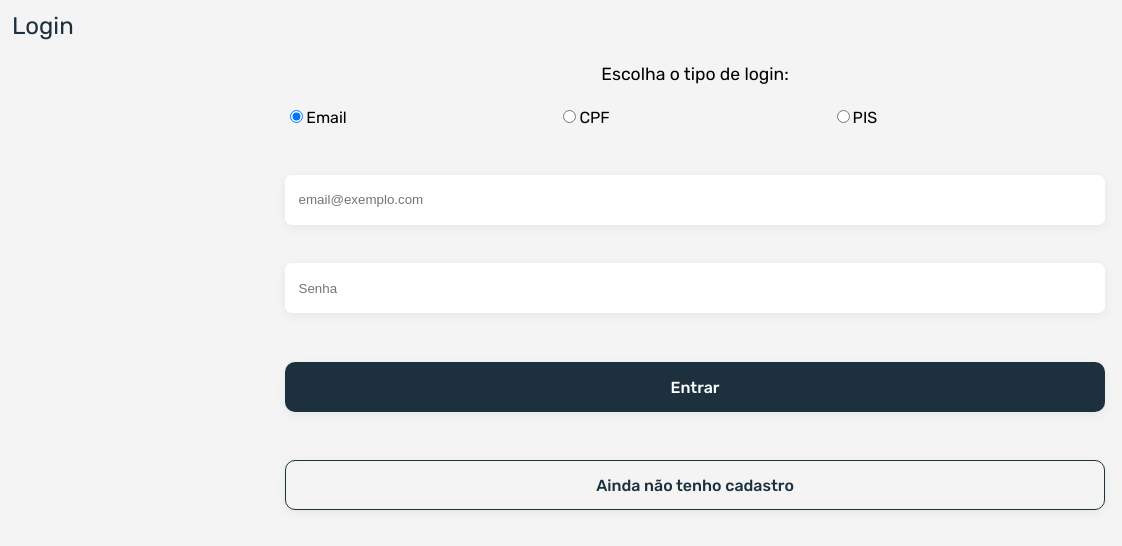
Scenario: Login › Submit flow › form shows error if login is empty
In the field with test id "email_input": {"x": 695, "y": 200} [285,175,1105,225], type "a"
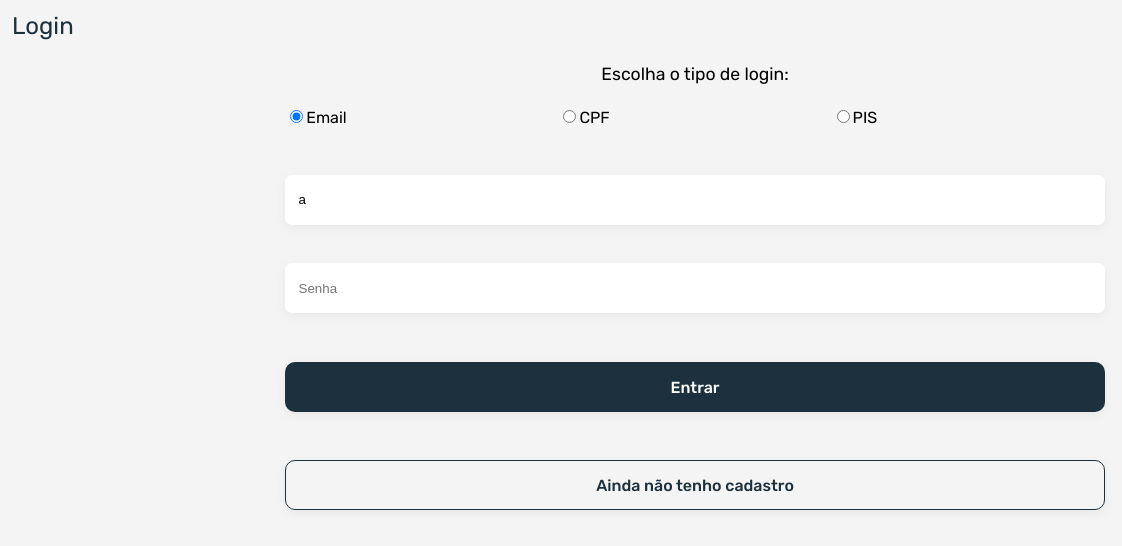
Clear the field with test id "email_input": {"x": 695, "y": 200} [285,175,1105,225]
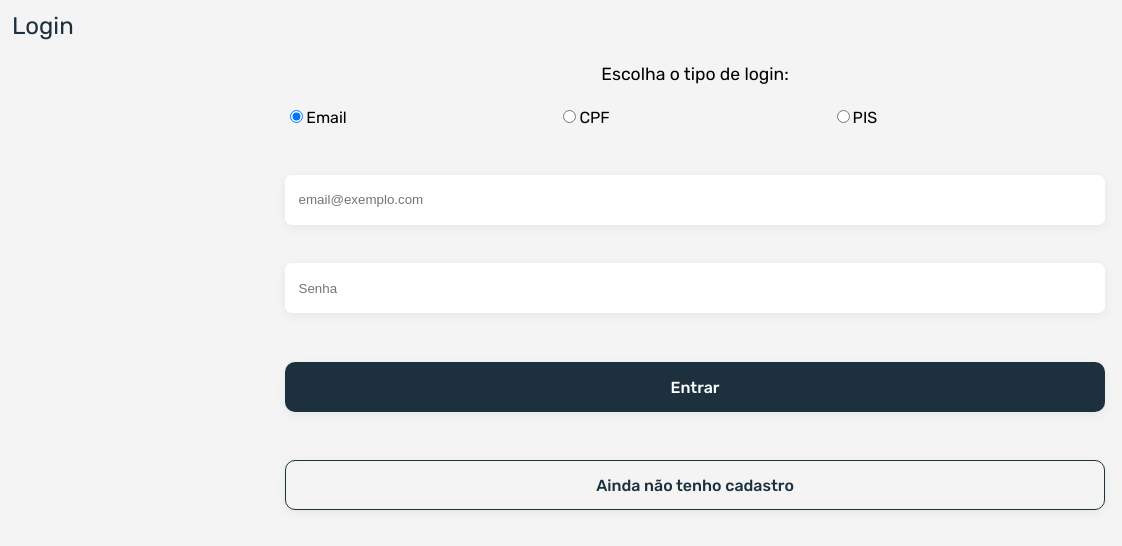
Leave the field with test id "email_input", box [285,175,1105,225]
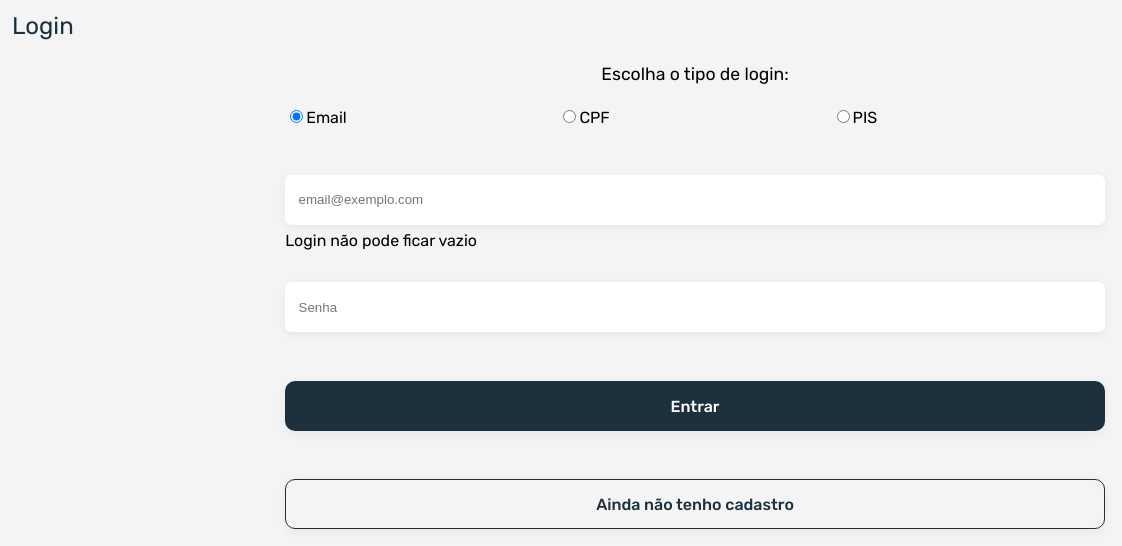
Result: the text "Login não pode ficar vazio" is shown at [285,231,477,250]
